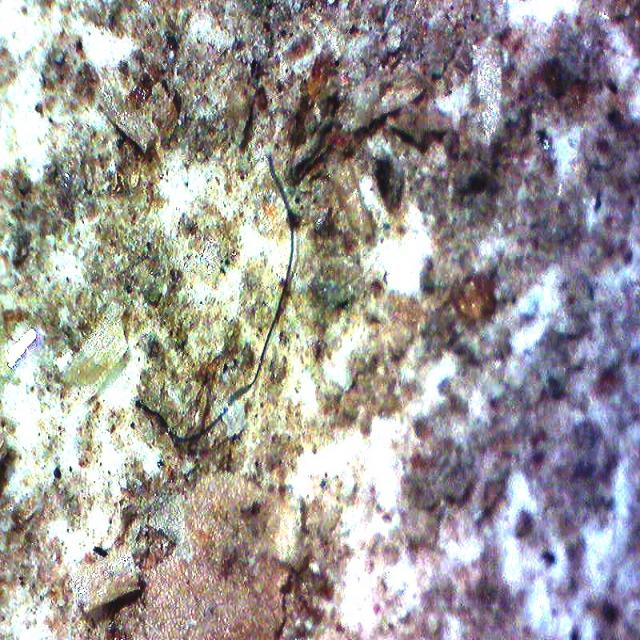microplastic: (136, 155, 294, 445)
